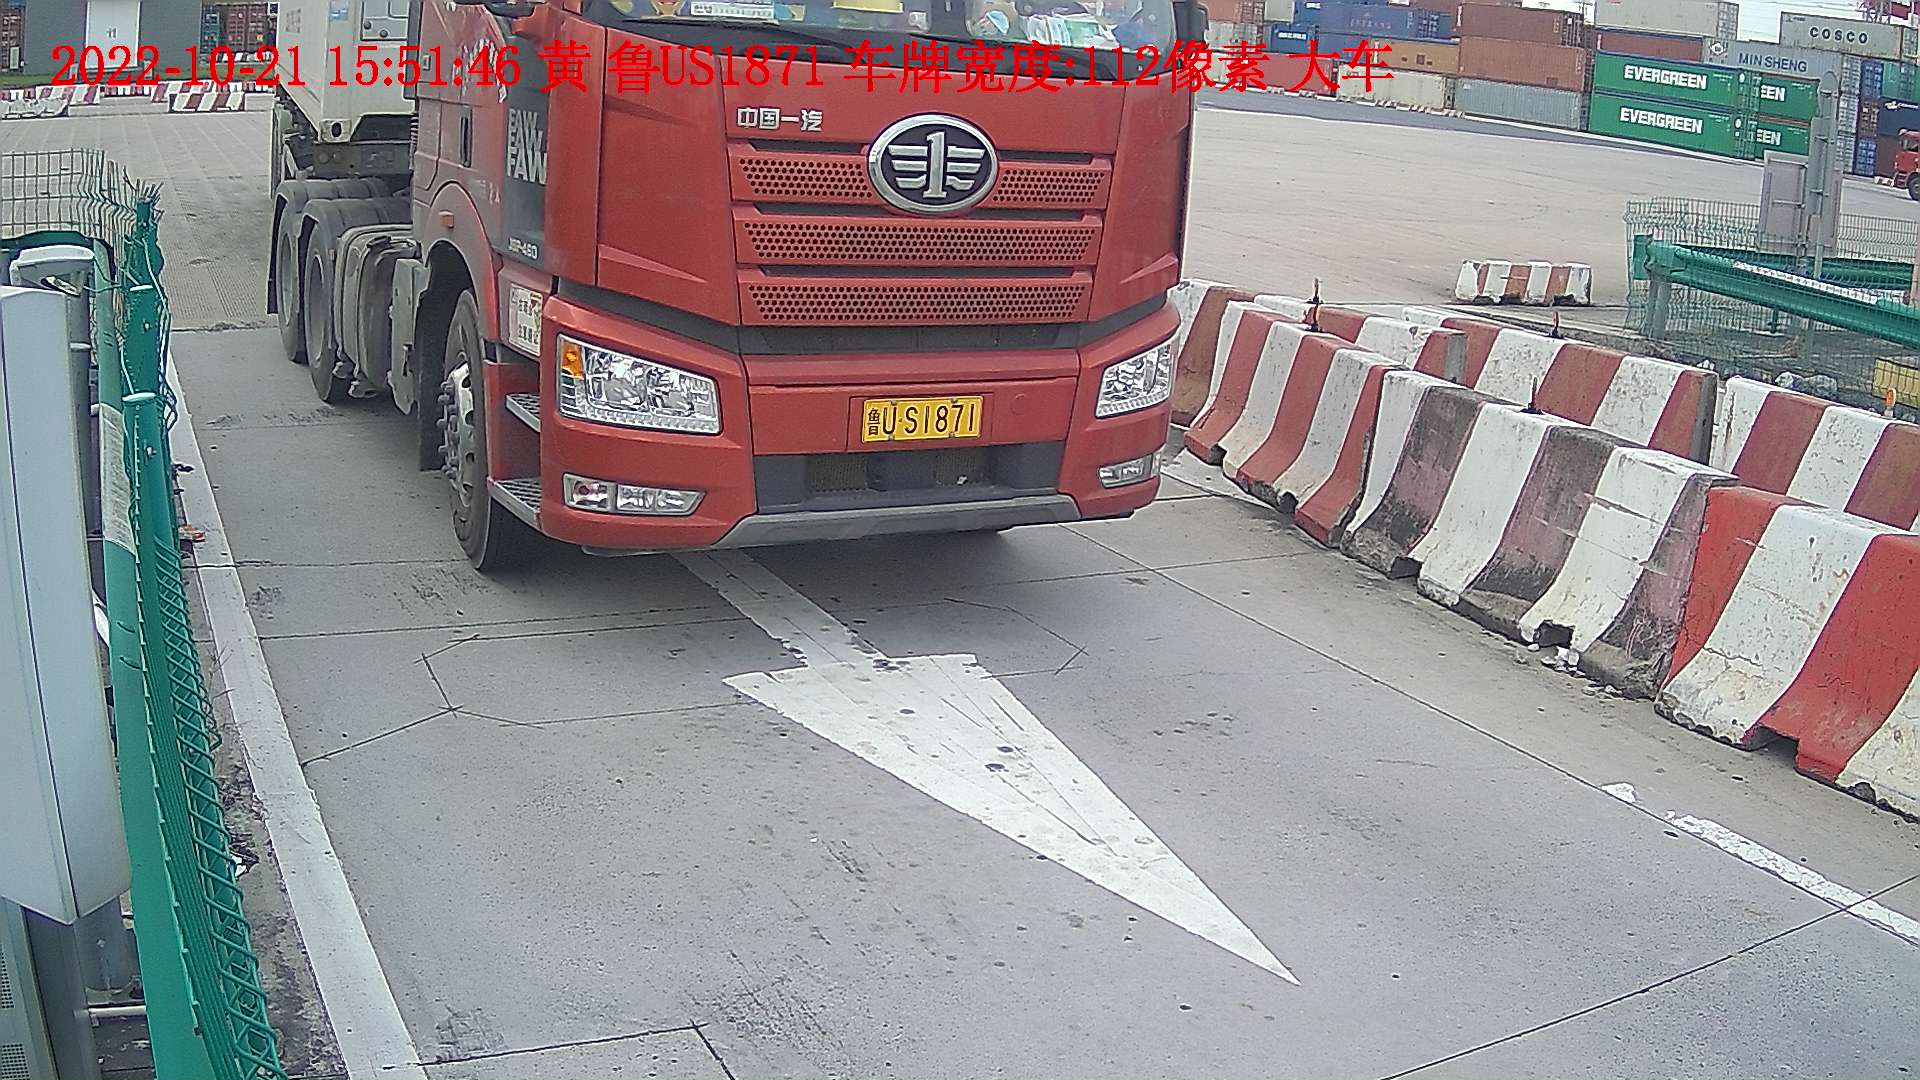head: (406, 2, 1183, 582)
plate: (858, 399, 989, 438)
